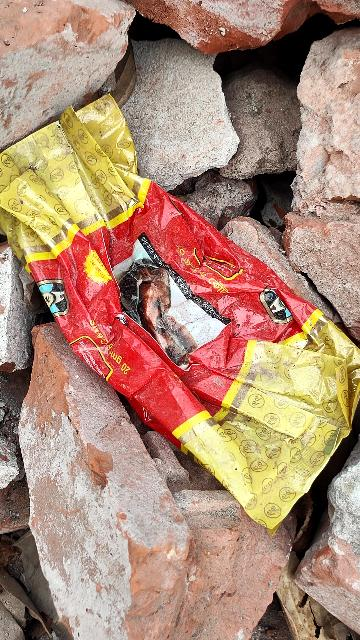packet: (0, 87, 360, 517)
